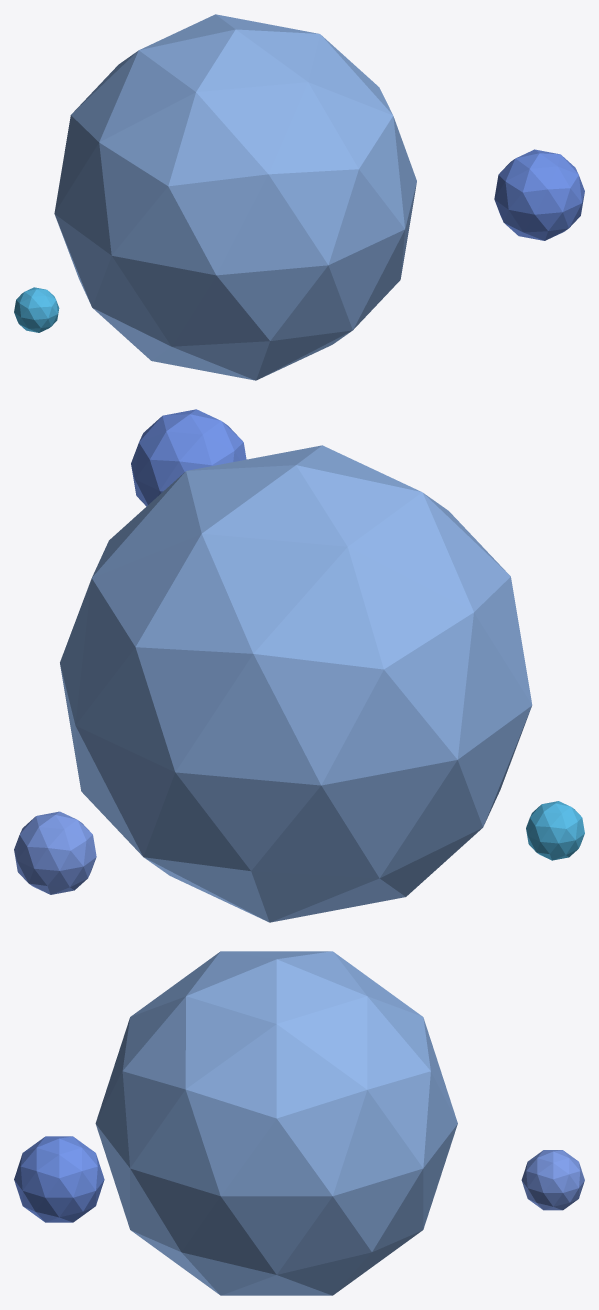
3 renders of one model, top to bottom at view 1: azimuth 30°, elevation 25°; view 2: azimuth 150°, elevation 25°; view 3: azimuth 270°, elevation 25°, orthographic. The views are drawn at different scales.
Visible parts, largest first — view 1: Main, Big, Medium; view 2: Main, Big, Medium.001, Medium; view 3: Main, Big, Medium.001.
Part boxes in pixels (x1,y1,x2,y2): Main: (54, 14, 416, 380); Big: (494, 149, 584, 240); Medium: (14, 287, 59, 332); Main: (60, 445, 532, 922); Big: (131, 409, 246, 506); Medium.001: (14, 811, 96, 894); Medium: (526, 801, 584, 860); Main: (95, 951, 457, 1295); Big: (14, 1136, 104, 1222); Medium.001: (521, 1150, 584, 1210).
Size of the model in its own units: 0.6992 by 0.5 by 0.7877.
